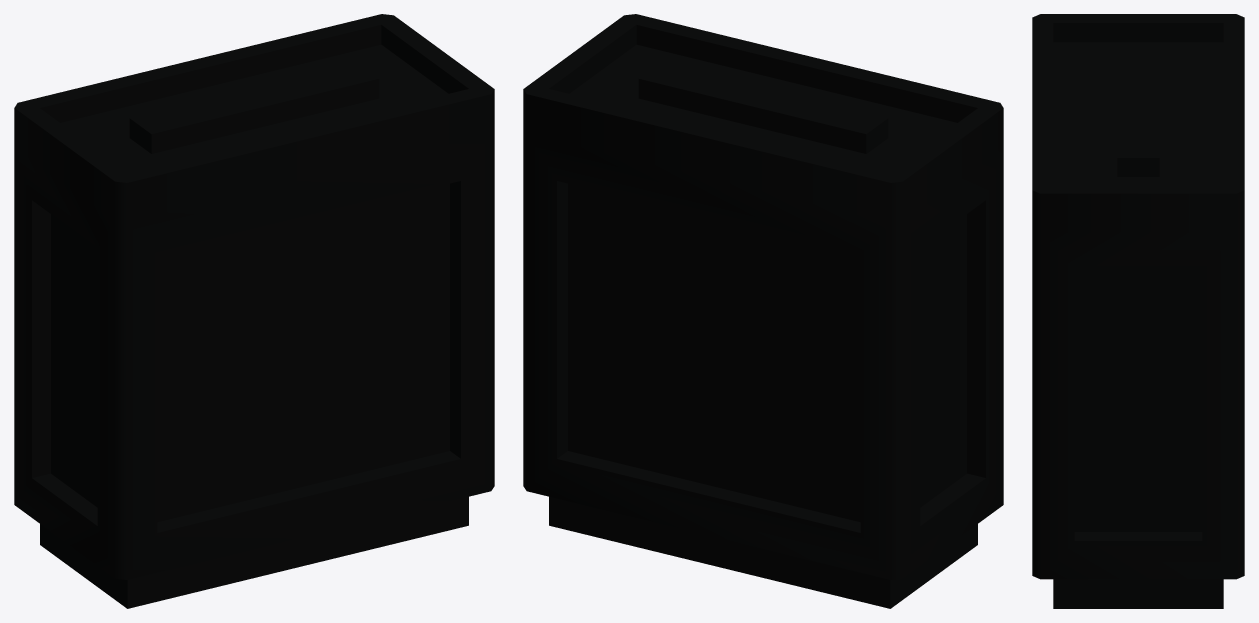
Rendered from low-detail-building-wide-a.glb.
3 views of the same model, side by side, from view 1: azimuth 30°, elevation 25°; view 2: azimuth 150°, elevation 25°; view 3: azimuth 270°, elevation 25° (orthographic). The views are drawn at different scales.
Parts seen in each view (by area): view 1: low-detail-building-wide-a; view 2: low-detail-building-wide-a; view 3: low-detail-building-wide-a.
Boxes of the visible parts, x1,y1,x2,y2 form: low-detail-building-wide-a: (14, 14, 494, 608); low-detail-building-wide-a: (523, 14, 1003, 608); low-detail-building-wide-a: (1032, 14, 1244, 608).
Bounding box in the file's own units: 1 × 1.1 × 0.4997.
Materials: 1 (1 with a texture image).
